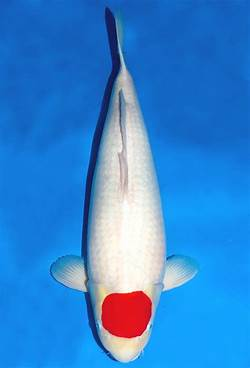sun: (50, 7, 199, 363)
